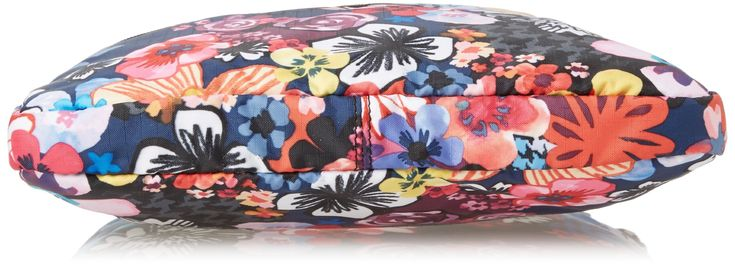nylon: (6, 4, 726, 230)
